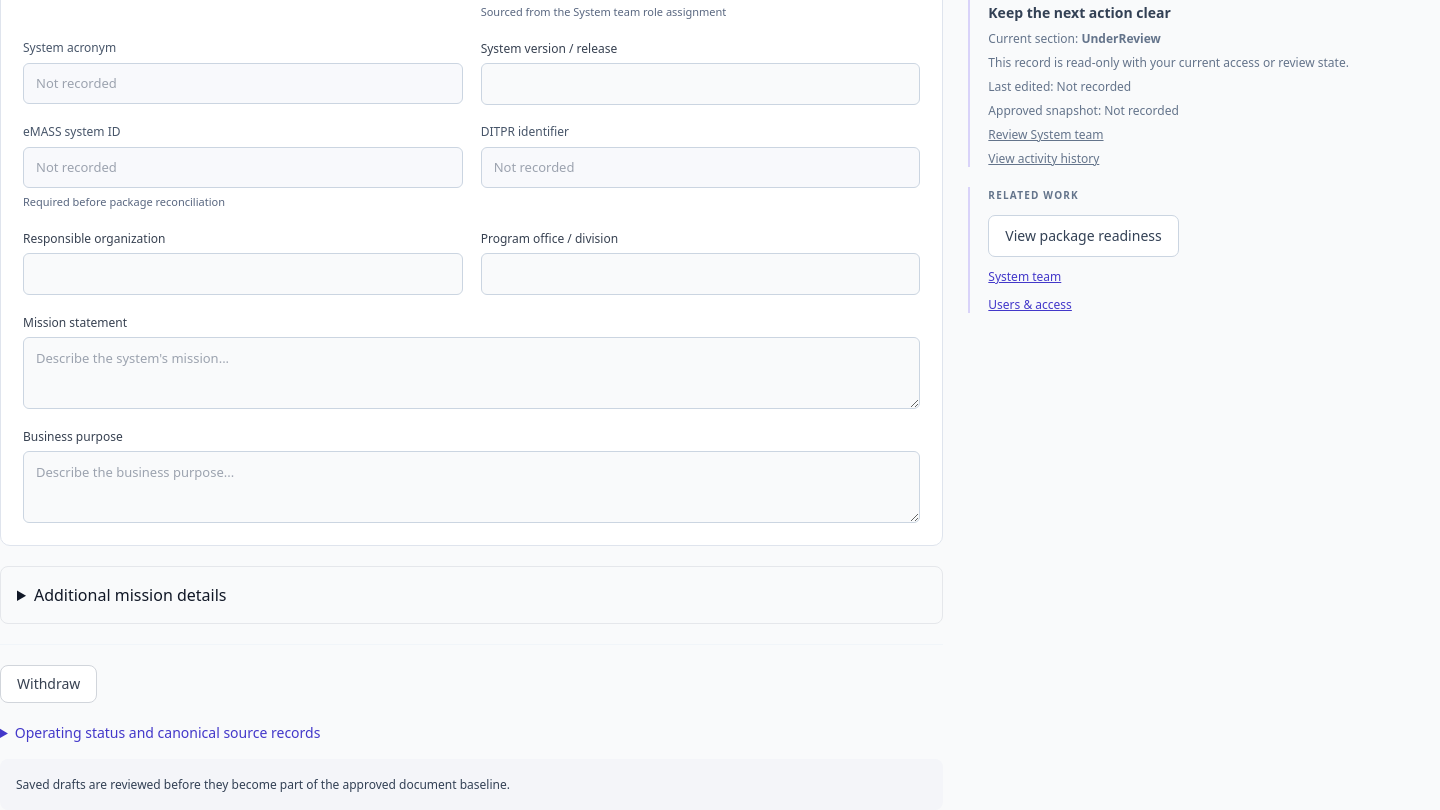
Scenario: server-authoritative profile editing (#968) › does not claim withdrawal when the server skips the selected section
(page scrolled)
Click the button "Withdraw" at (49, 684), box [0,664,97,702]
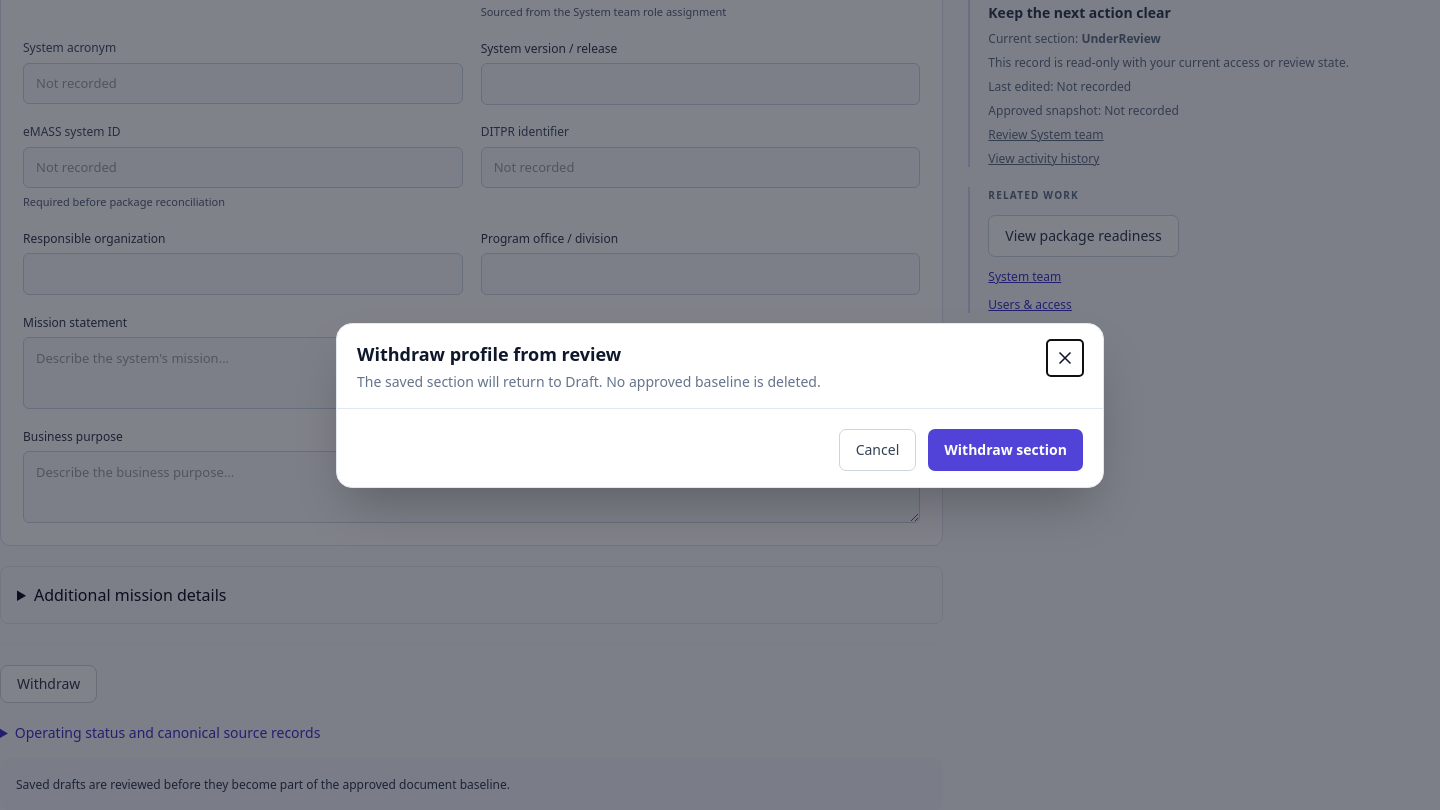
Click the button "Withdraw section" at (1006, 450), box [928,428,1083,470]
(page scrolled)
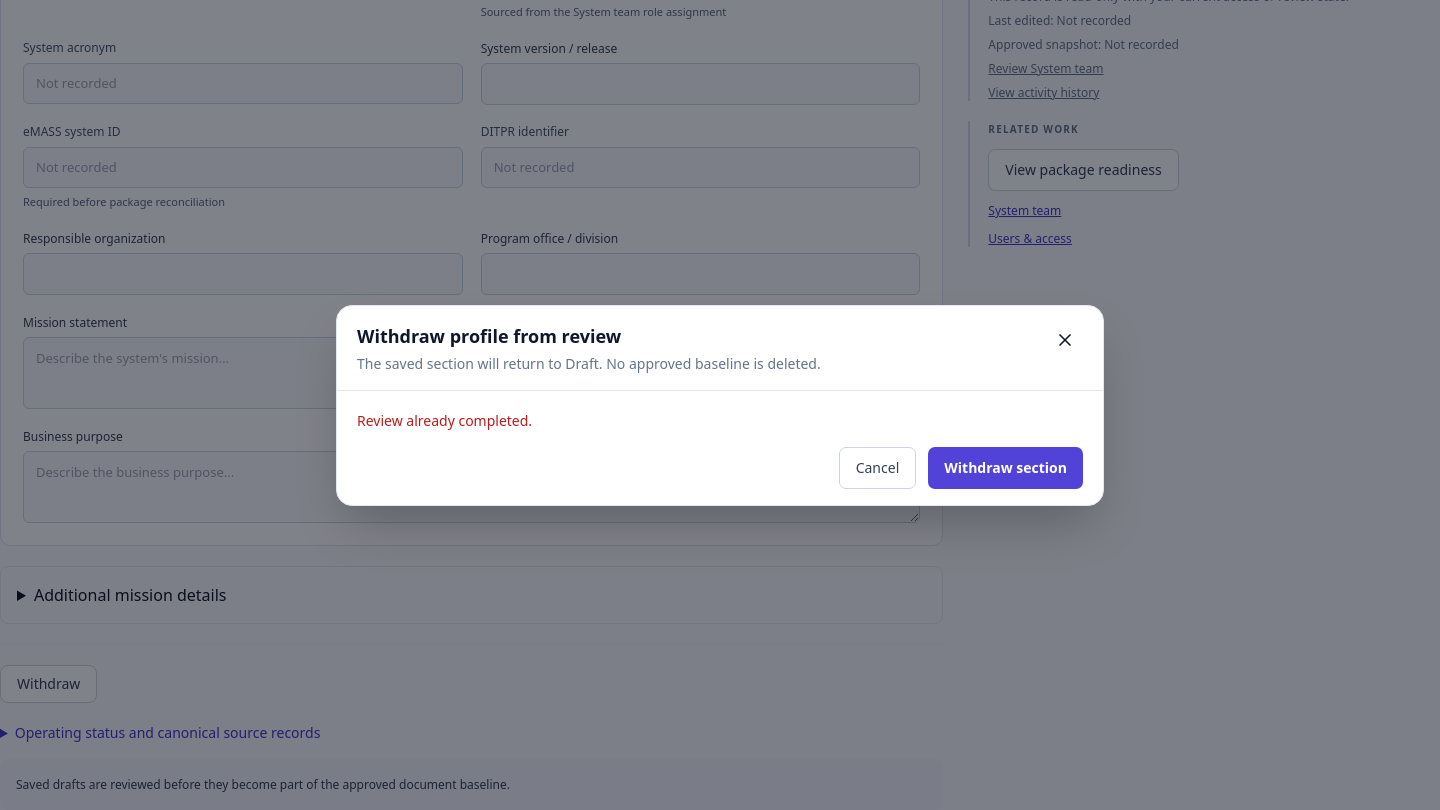
Check: the message reads "Review already completed.", box [357,410,532,430]
